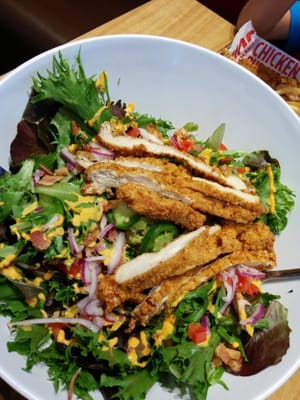soup: (129, 251, 293, 399)
sushi: (1, 33, 300, 373)
